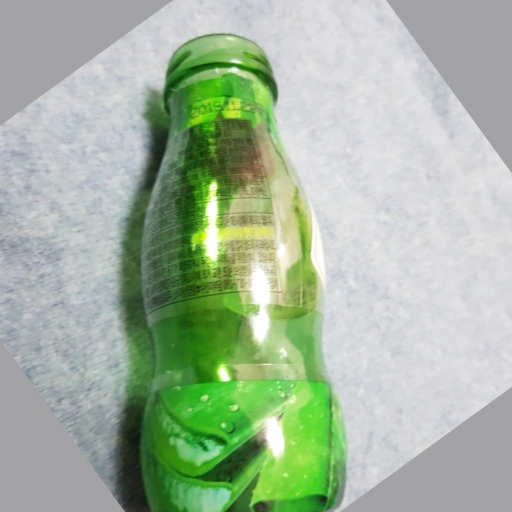Glass_4: (135, 31, 354, 512)
